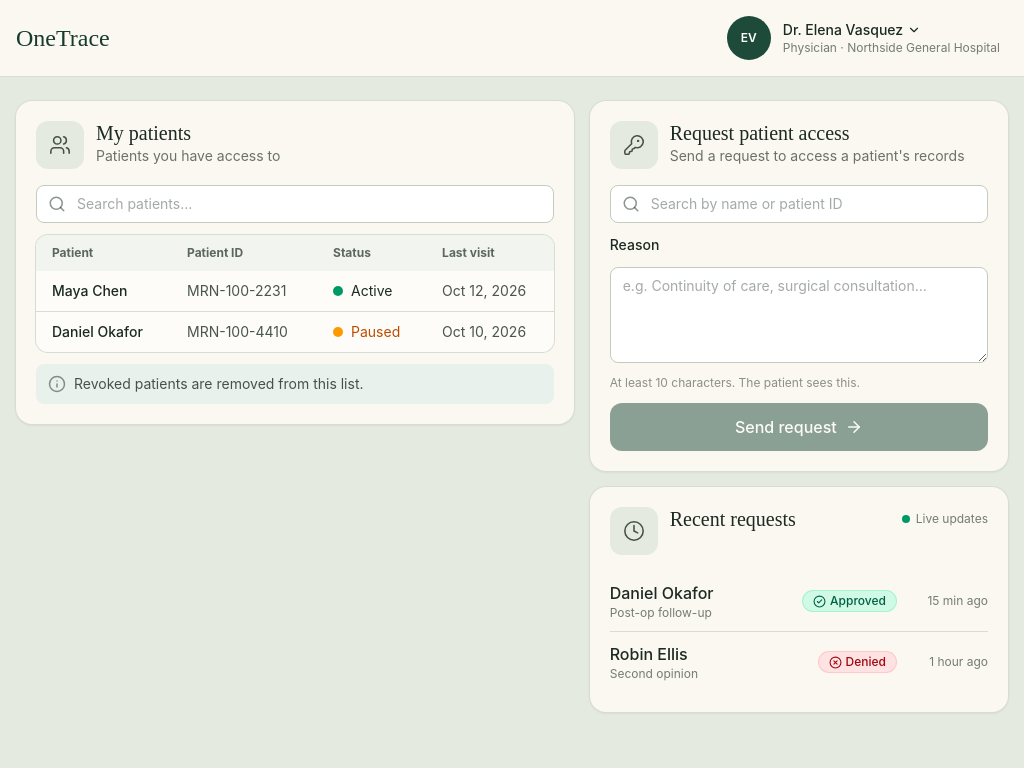
Hospital workspace: my patients & requests (mockup page 3, screen 2) › filters the table through the search box
Expected: the row "Maya Chen MRN-100-2231 Active Oct 12, 2026" is shown, [36,271,554,312]
In the search field labelled "Search patients": [295, 204] box [36,185,554,223], type "Daniel"
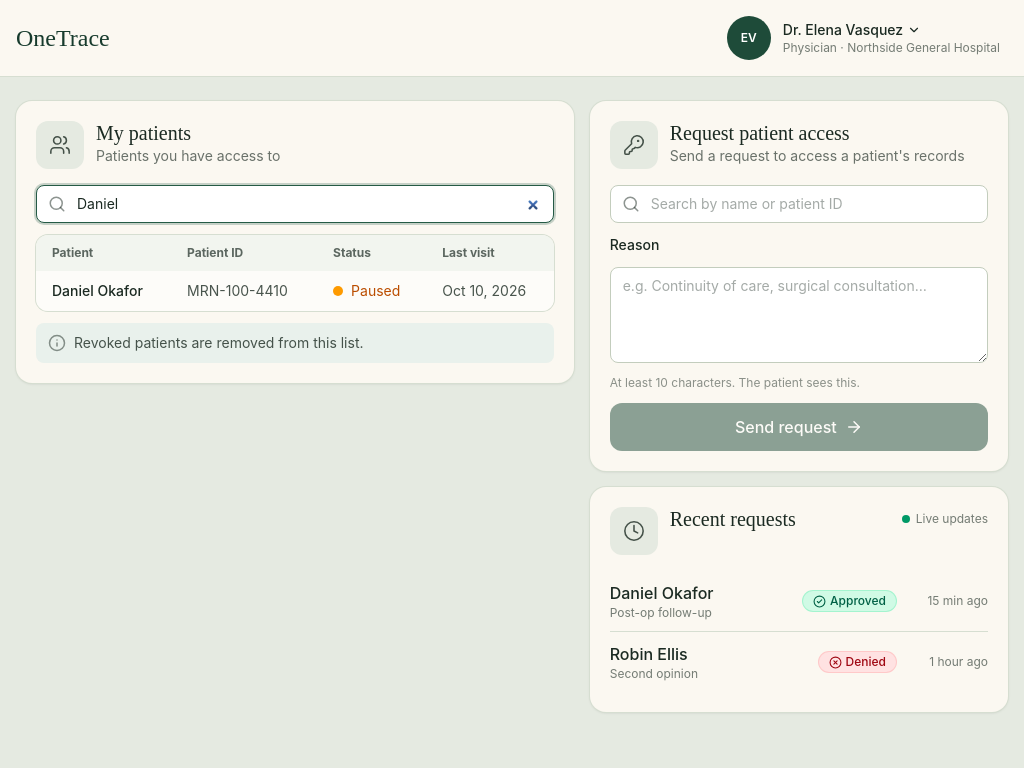
Expected: the row "Daniel Okafor MRN-100-4410 Paused Oct 10, 2026" is shown, [36,271,554,311]
Expected: the link "Maya Chen" is gone
